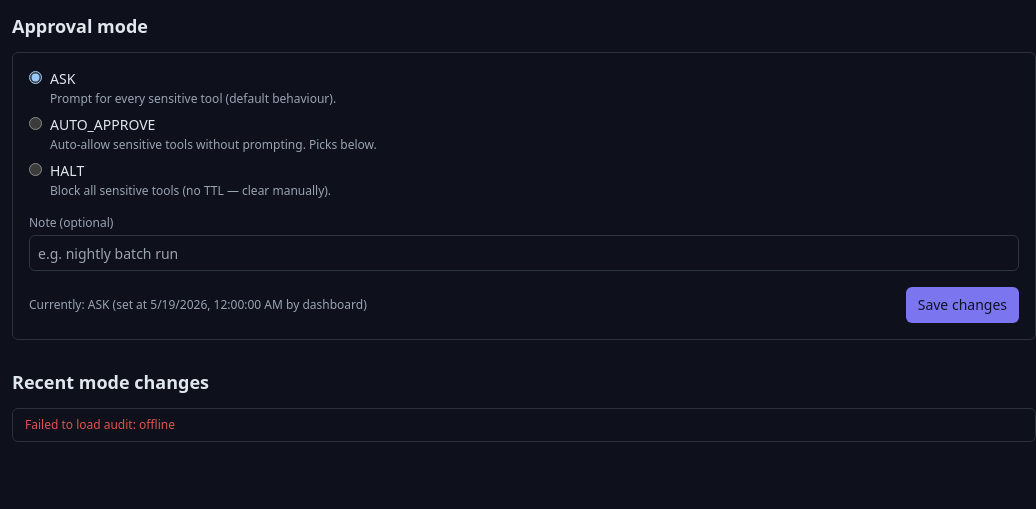
ApprovalModeSection › shows local validation error when client schema rejects payload
Step 1. Click the radio button with test id "mode-radio-HALT" → click(36, 170), box [29,163,42,176]
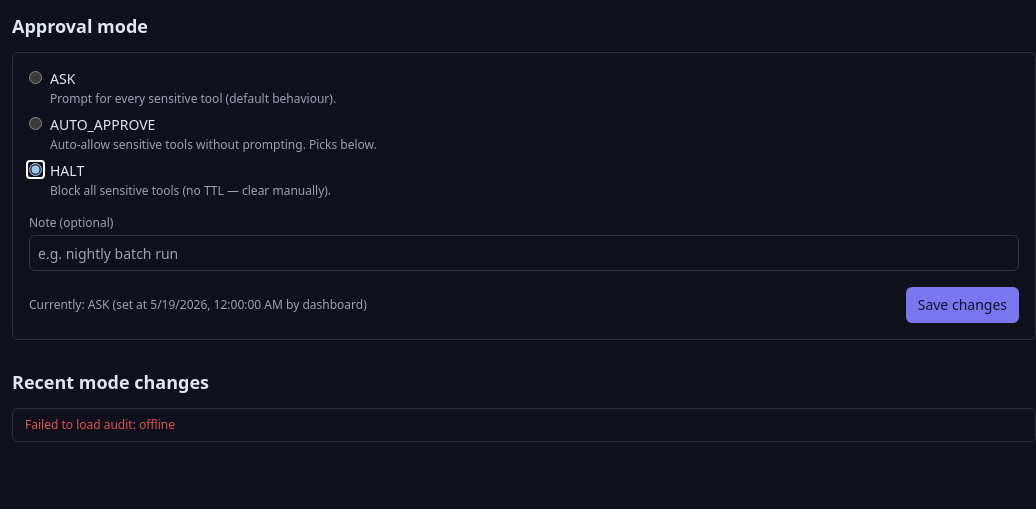
Step 2. Click the button with test id "mode-save" → click(962, 305), box [906,287,1019,323]
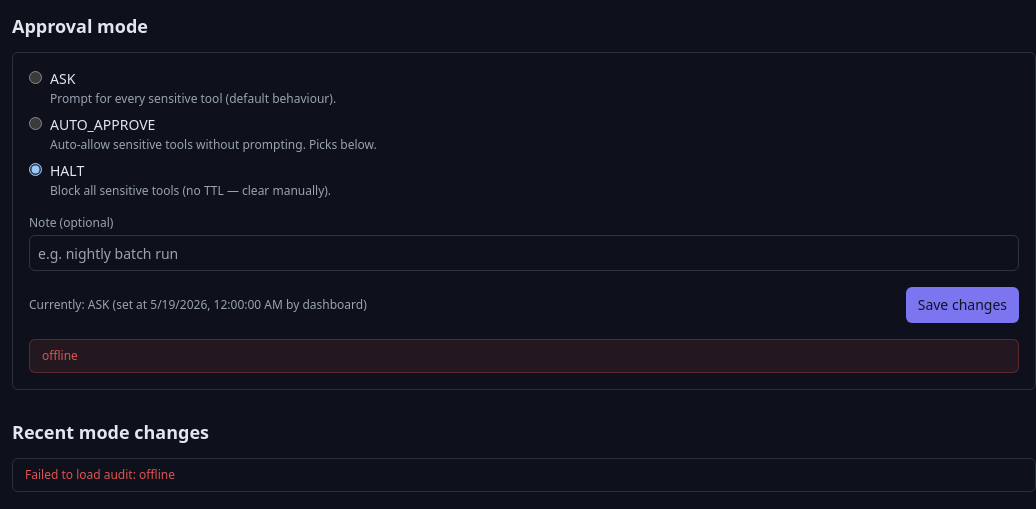
Expected: the message "offline" is shown, [29,339,1019,373]
Expected: the message with test id "mode-save-error" reads "offline", [42,347,78,364]
